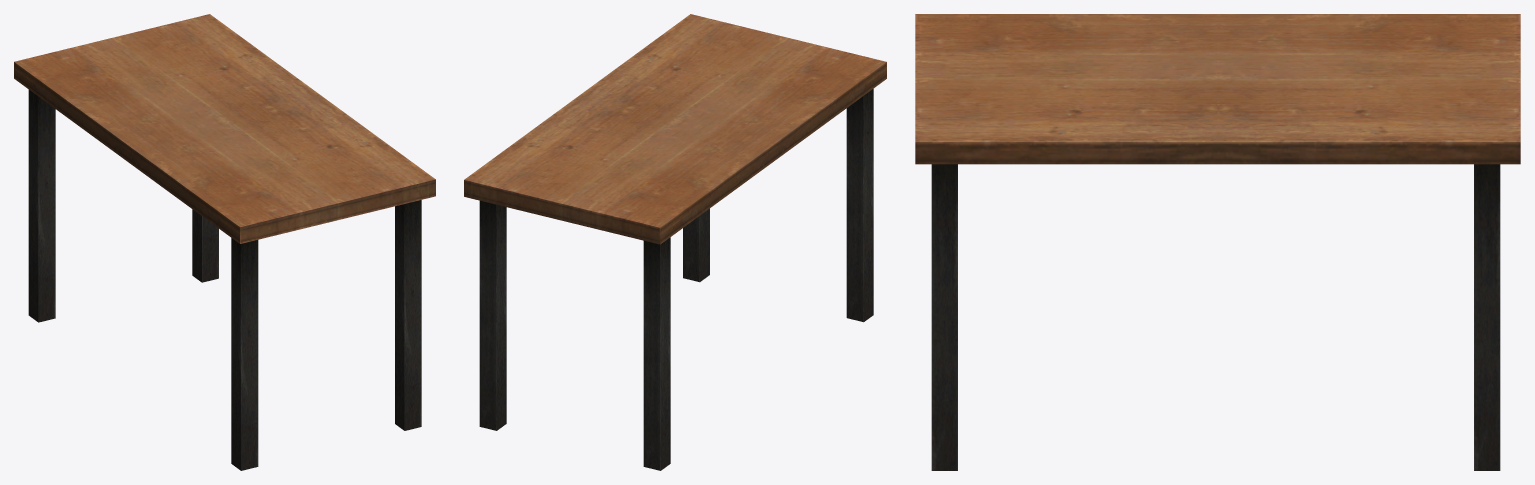
The model's file is Prop_JbZz02.glb.
The picture shows the model from 3 angles, left to right: view 1: azimuth 30°, elevation 25°; view 2: azimuth 150°, elevation 25°; view 3: azimuth 270°, elevation 25°; orthographic projection. The views are drawn at different scales.
Parts seen in each view (by area): view 1: xiutz_jb_zz_02; view 2: xiutz_jb_zz_02; view 3: xiutz_jb_zz_02.
Boxes of the visible parts, left/top/right/bottom form: xiutz_jb_zz_02: left=14, top=14, right=435, bottom=470; xiutz_jb_zz_02: left=464, top=14, right=886, bottom=470; xiutz_jb_zz_02: left=915, top=14, right=1520, bottom=470.
Size of the model in its own units: 1.11 by 1.35 by 2.21.
Materials: 1 (1 with a texture image).
